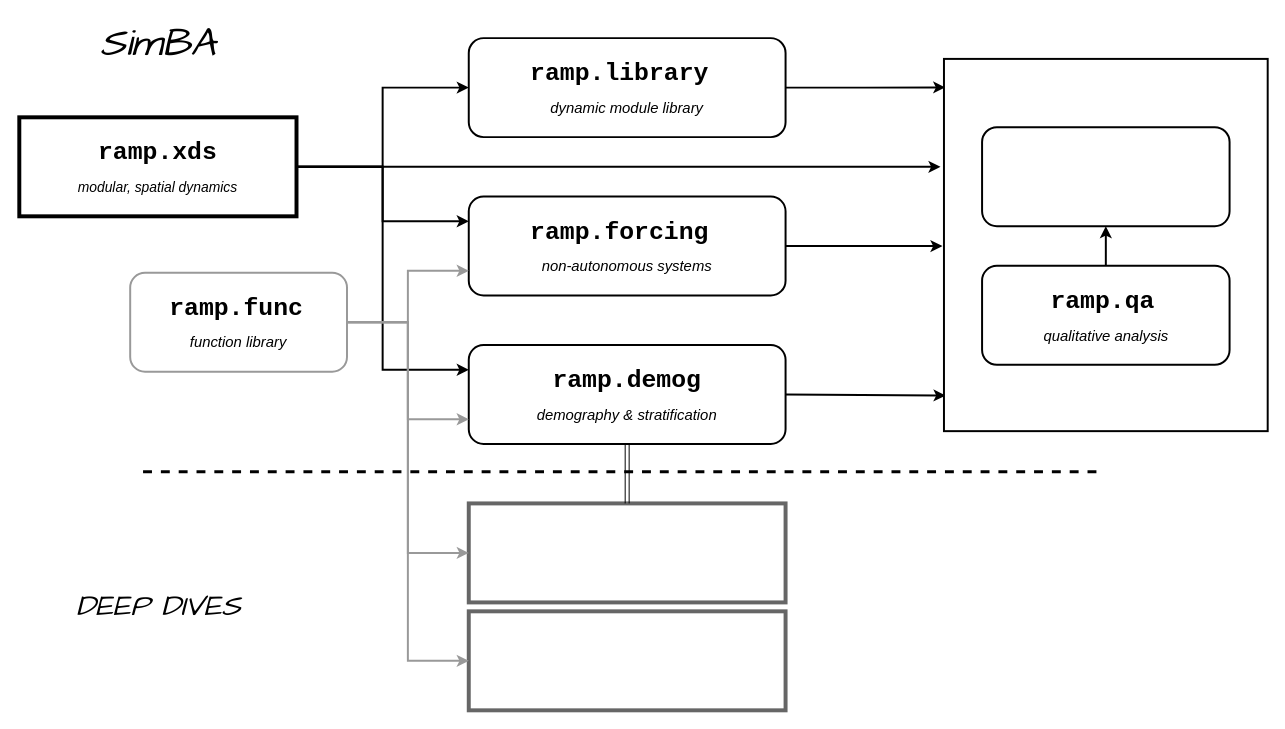
Image size: 1285x729. Some labels were removed from this diagram. The centre of each missing label's shape, as x and y in pixels:
"ramp.falciparum falciparum malaria epidemiology" belongs at point (626, 552).
"ramp.micro microsimulation" belongs at point (626, 660).
"ramp.work fitting & inference" belongs at point (1105, 176).
